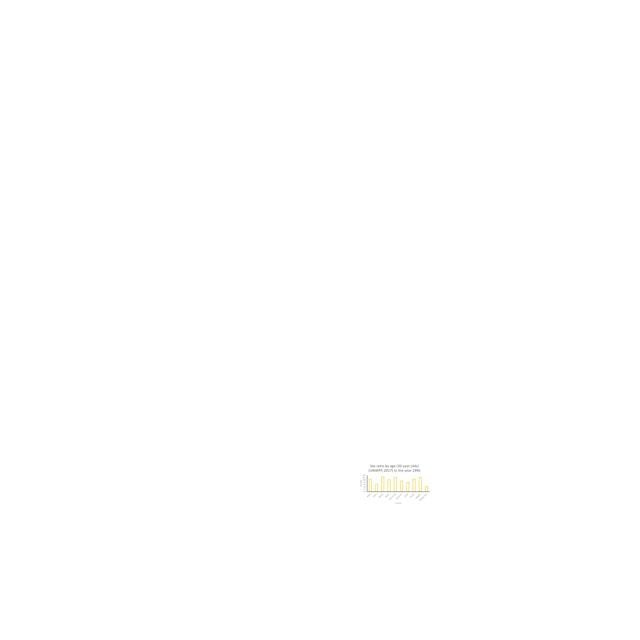Graph: (358, 463, 431, 505)
